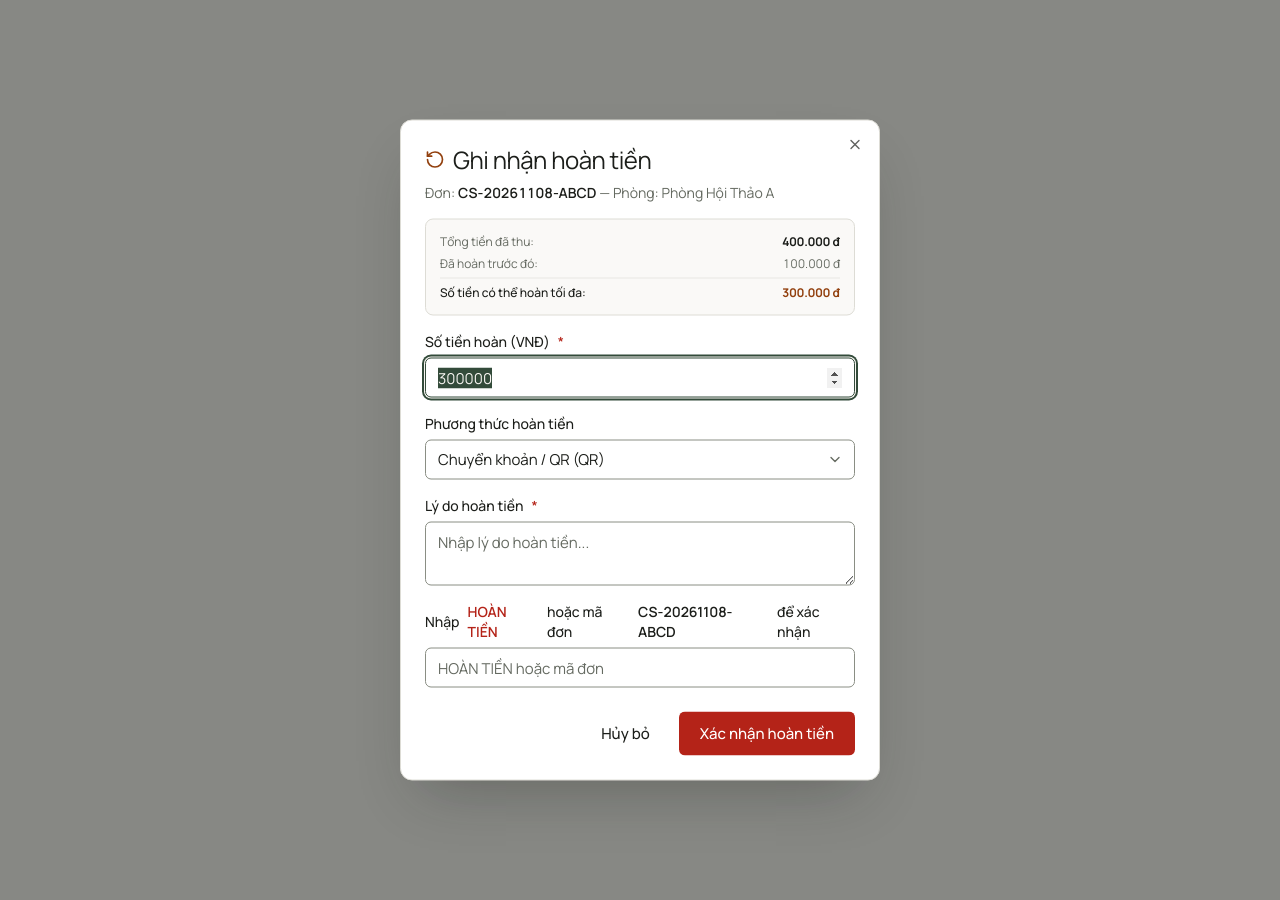
Test: RefundBookingDialog › shows field-level errors on empty reason and empty confirm keyword when submitted
Click the button with test id "submit-refund-btn": (767, 734) [679,712,855,756]
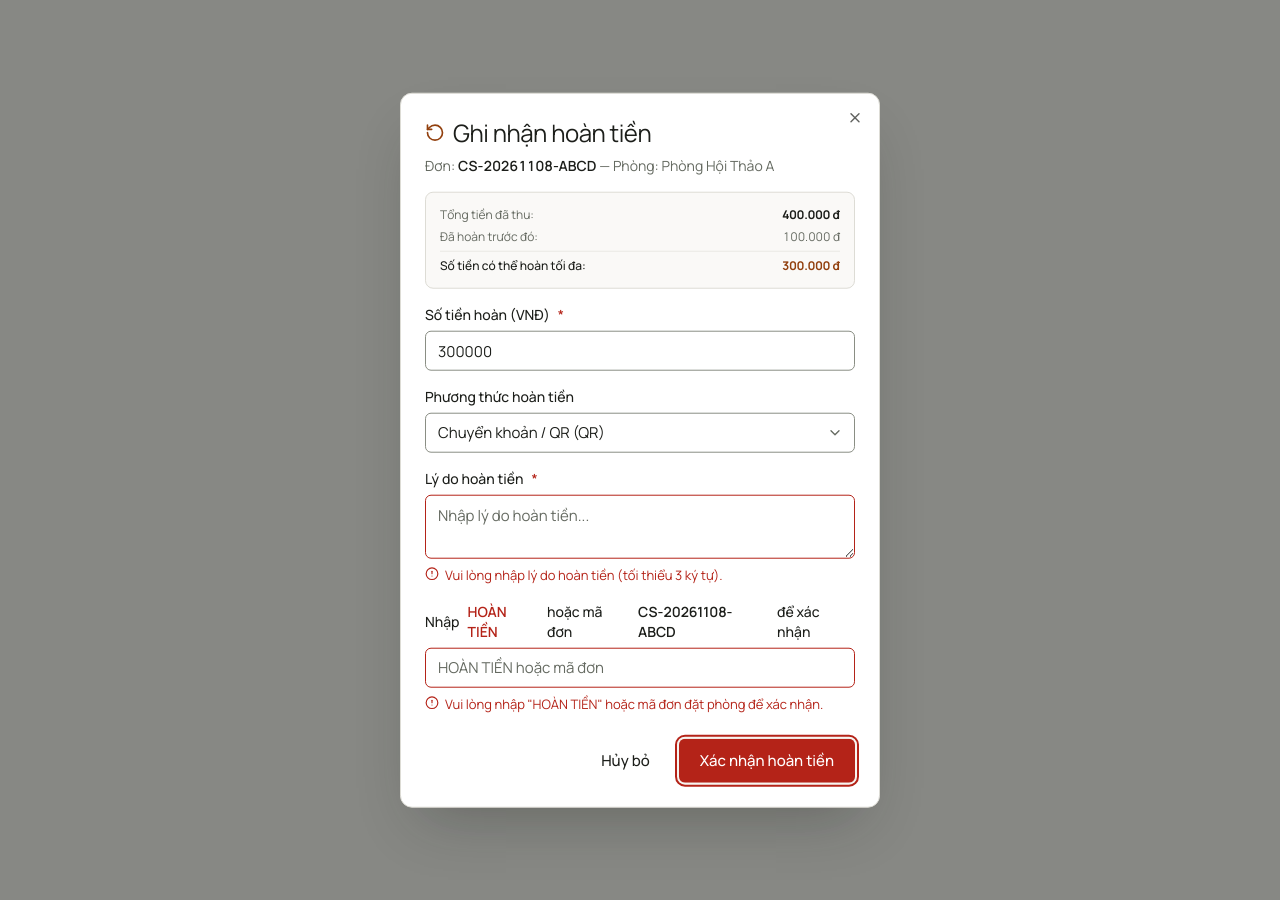
Now the text "Vui lòng nhập lý do hoàn tiền (tối thiểu 3 ký tự)." is shown, box [445,565,722,586]
Now the text "Vui lòng nhập \"HOÀN TIỀN\" hoặc mã đơn đặt phòng để xác nhận." is shown, box [445,694,823,714]
